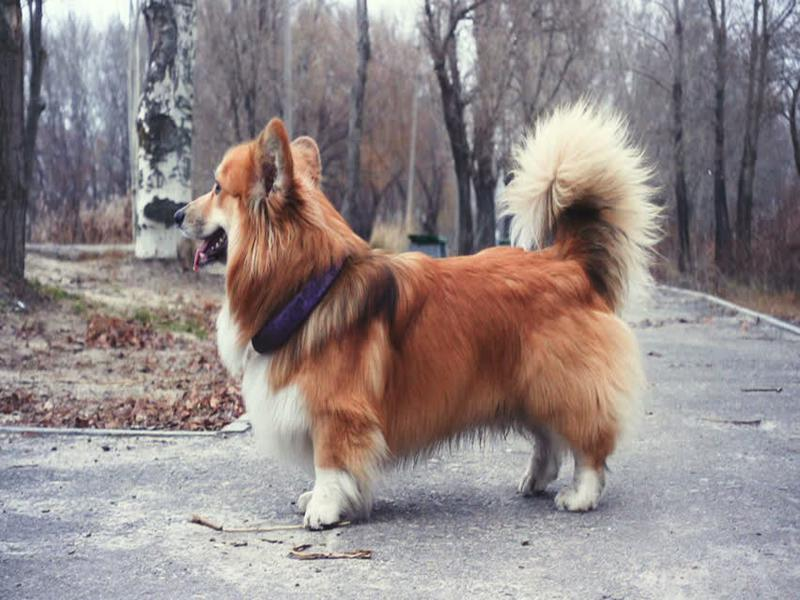corgi: (172, 117, 330, 276)
